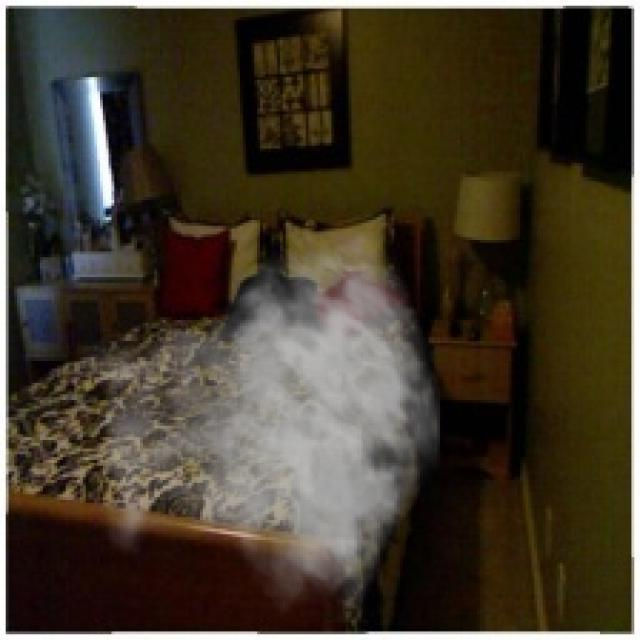smoke: (68, 231, 443, 623)
